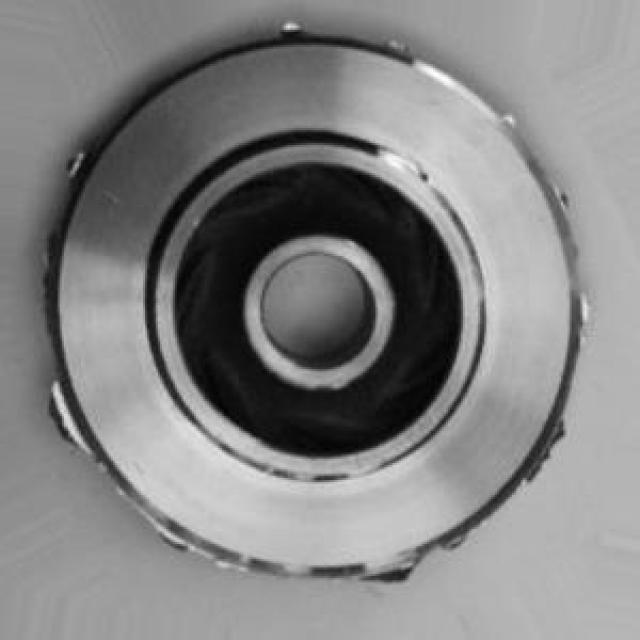Defect: (362, 558, 444, 592)
